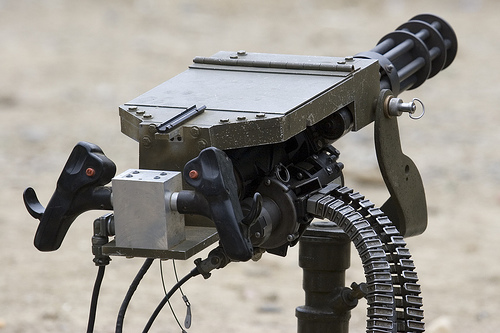rifle: (26, 17, 463, 306)
